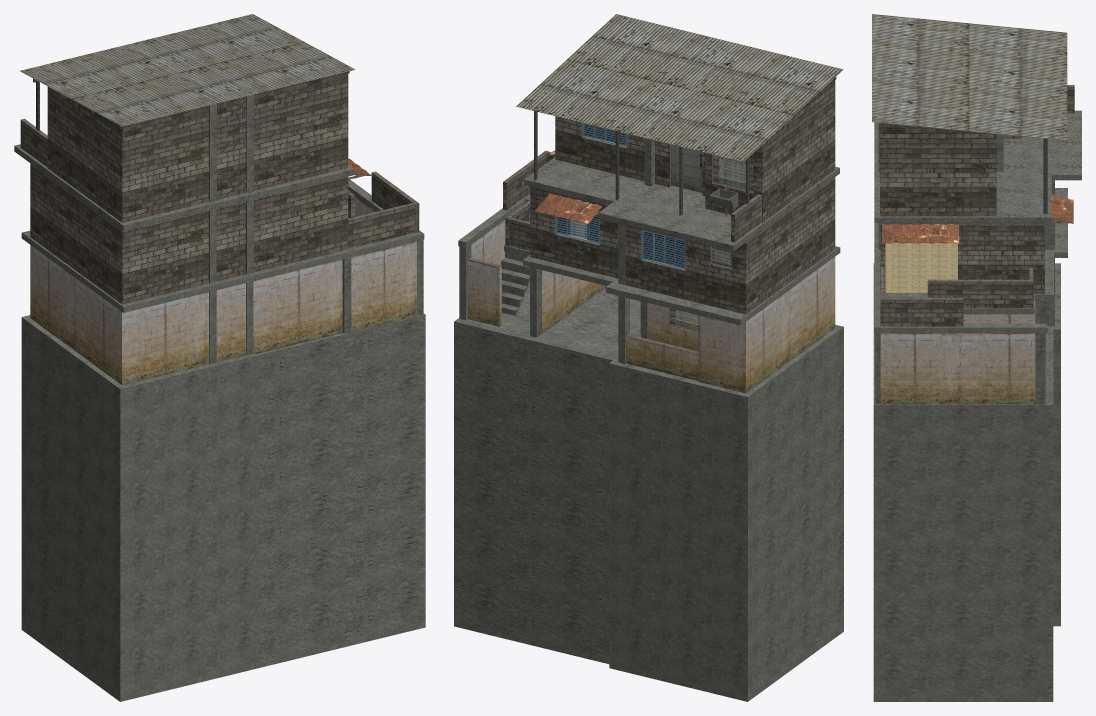
The model's file is barraco_rds_86.obj.
The picture shows the model from 3 angles, left to right: view 1: azimuth 30°, elevation 25°; view 2: azimuth 150°, elevation 25°; view 3: azimuth 270°, elevation 25°; orthographic projection. The views are drawn at different scales.
Parts seen in each view (by area): view 1: fav_brkk_barraco_07d; view 2: fav_brkk_barraco_07d; view 3: fav_brkk_barraco_07d.
Boxes of the visible parts, x1,y1,x2,y2 form: fav_brkk_barraco_07d: (14, 14, 425, 701); fav_brkk_barraco_07d: (454, 14, 843, 701); fav_brkk_barraco_07d: (872, 14, 1081, 701).
Bounding box in the file's own units: 11.65 × 20.97 × 7.3.
Materials: 19 (19 with a texture image).
